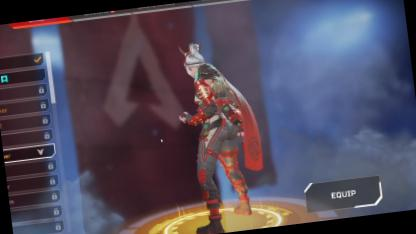Target: (179, 40, 248, 186)
